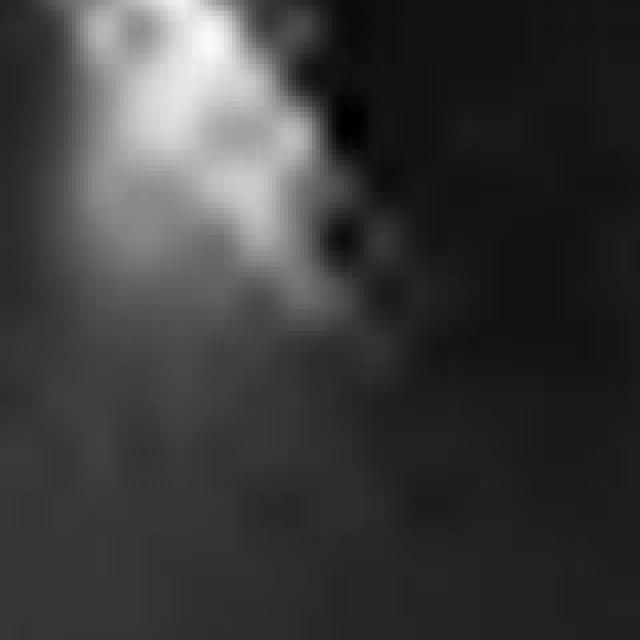person: (37, 1, 285, 364)
